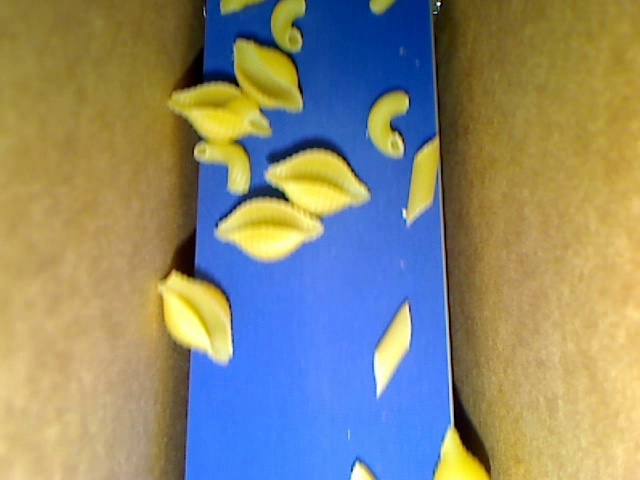elbow: (193, 139, 250, 195), (366, 89, 410, 160), (270, 1, 305, 53)
penne: (372, 297, 412, 400), (406, 136, 439, 227)
shell: (156, 268, 233, 364), (264, 148, 370, 217), (214, 196, 324, 262), (168, 83, 271, 143), (233, 39, 304, 113), (431, 424, 490, 479)
